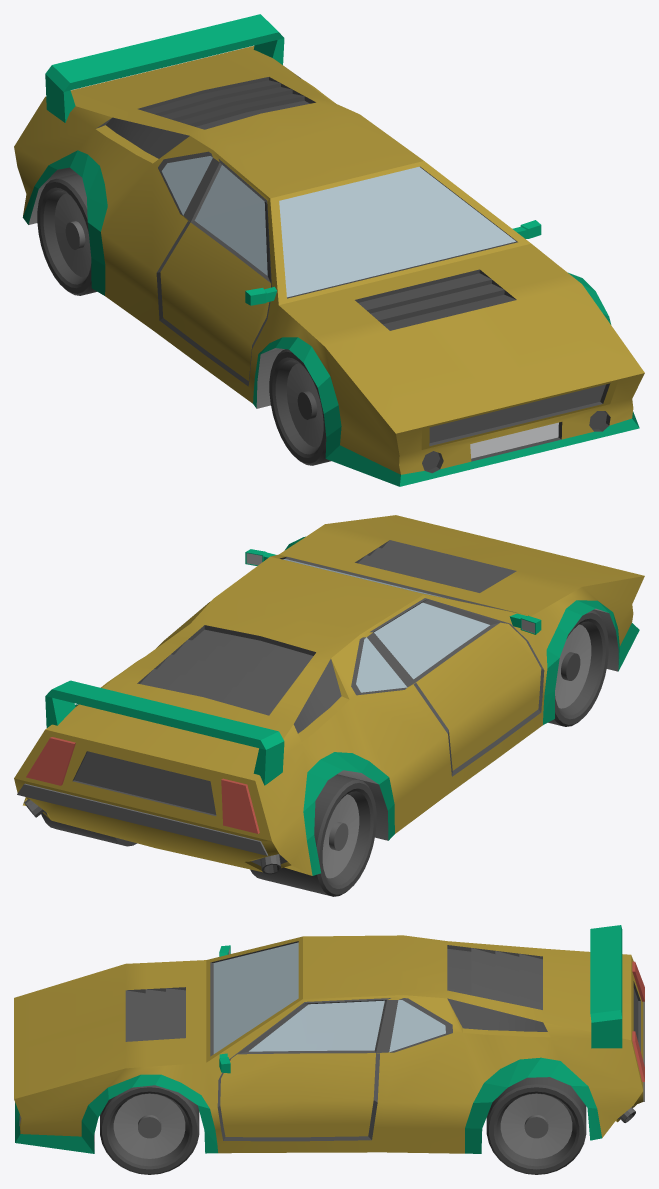
Rendered from model_bmm1_separate.fbx.
The picture shows the model from 3 angles, top to bottom: view 1: azimuth 30°, elevation 25°; view 2: azimuth 150°, elevation 25°; view 3: azimuth 270°, elevation 25°; orthographic projection. The views are drawn at different scales.
Visible parts, largest first — view 1: Carroserie, Weel_arr_R, Weel_dev_R; view 2: Carroserie, Weel_arr_R, Weel_dev_R, Weel_arr_L; view 3: Carroserie, Weel_arr_L, Weel_dev_L.
Part boxes in pixels (bbox=[...]): Carroserie: bbox=[14, 14, 644, 486]; Weel_arr_R: bbox=[37, 173, 96, 295]; Weel_dev_R: bbox=[269, 349, 331, 465]; Carroserie: bbox=[14, 515, 644, 875]; Weel_arr_R: bbox=[250, 774, 376, 896]; Weel_dev_R: bbox=[548, 610, 608, 726]; Weel_arr_L: bbox=[41, 813, 136, 846]; Carroserie: bbox=[14, 925, 644, 1153]; Weel_arr_L: bbox=[486, 1077, 586, 1174]; Weel_dev_L: bbox=[100, 1085, 199, 1174].
Size of the model in its own units: 0.95 by 0.558 by 2.08.
